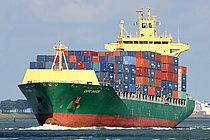Ship: (15, 7, 200, 132)
